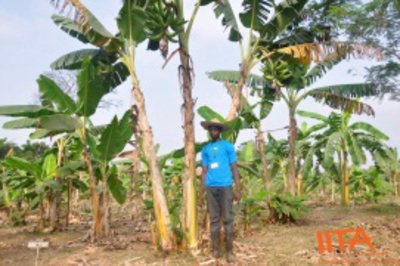bananaHand: (145, 1, 188, 44), (260, 53, 298, 92)
